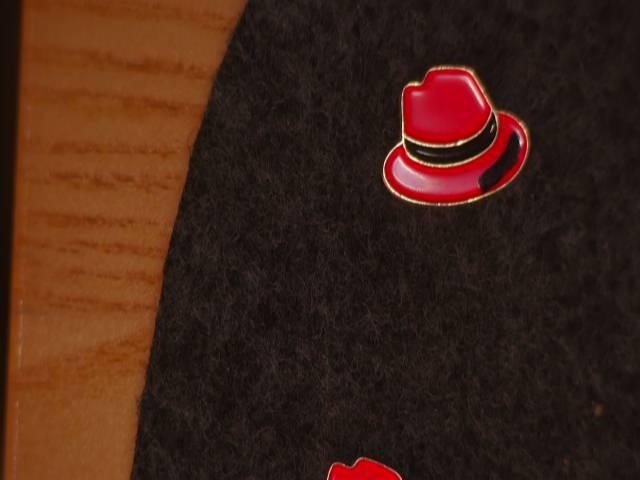Red-Hat: (373, 49, 564, 256)
Scratch: (473, 112, 546, 209)
